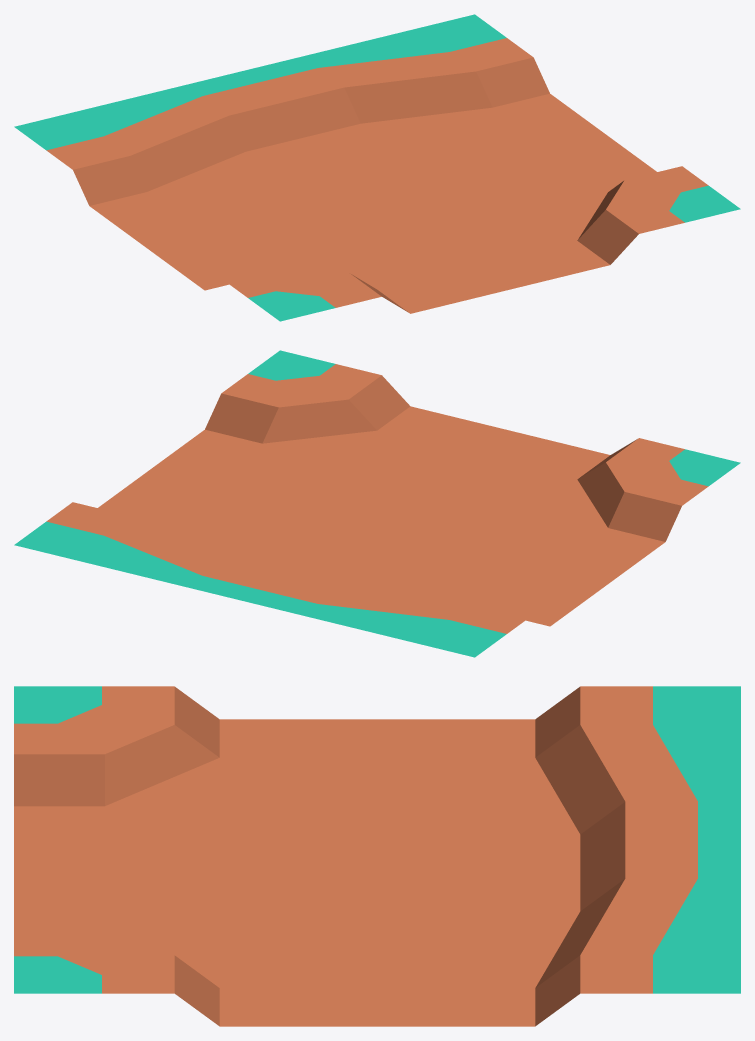
3 renders of one model, top to bottom at view 1: azimuth 30°, elevation 25°; view 2: azimuth 150°, elevation 25°; view 3: azimuth 270°, elevation 25°, orthographic. The views are drawn at different scales.
Visible parts, largest first — view 1: ground_pathSplit; view 2: ground_pathSplit; view 3: ground_pathSplit.
Part boxes in pixels (x1,y1,x2,y2): ground_pathSplit: [14, 14, 740, 321]; ground_pathSplit: [14, 350, 740, 657]; ground_pathSplit: [14, 686, 740, 1026].
Bounding box in the file's own units: 1 × 0.05 × 1.
